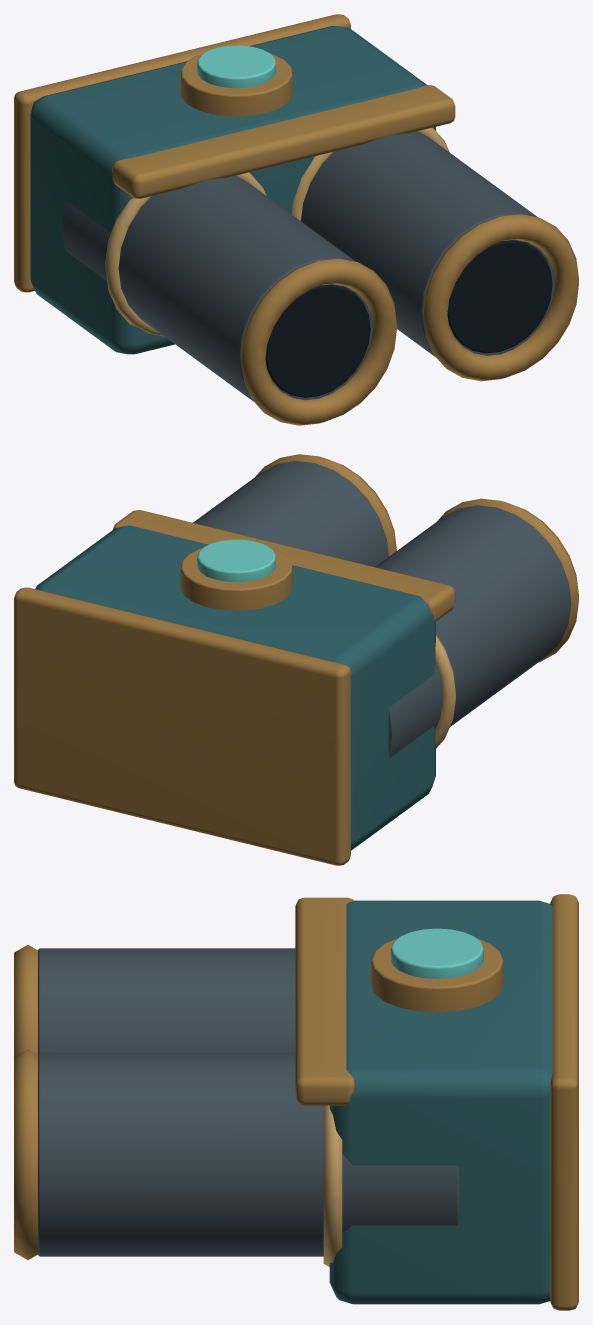
File: twin_barrel_core.glb
The picture shows the model from 3 angles, top to bottom: view 1: azimuth 30°, elevation 25°; view 2: azimuth 150°, elevation 25°; view 3: azimuth 270°, elevation 25°; orthographic projection. The views are drawn at different scales.
Visible parts, largest first — view 1: SM_twin_barrel_core; view 2: SM_twin_barrel_core; view 3: SM_twin_barrel_core.
Boxes of the visible parts, x1,y1,x2,y2 form: SM_twin_barrel_core: [14, 14, 578, 425]; SM_twin_barrel_core: [14, 454, 578, 865]; SM_twin_barrel_core: [14, 894, 578, 1310].
Size of the model in its own units: 0.266 by 0.168 by 0.3148.
